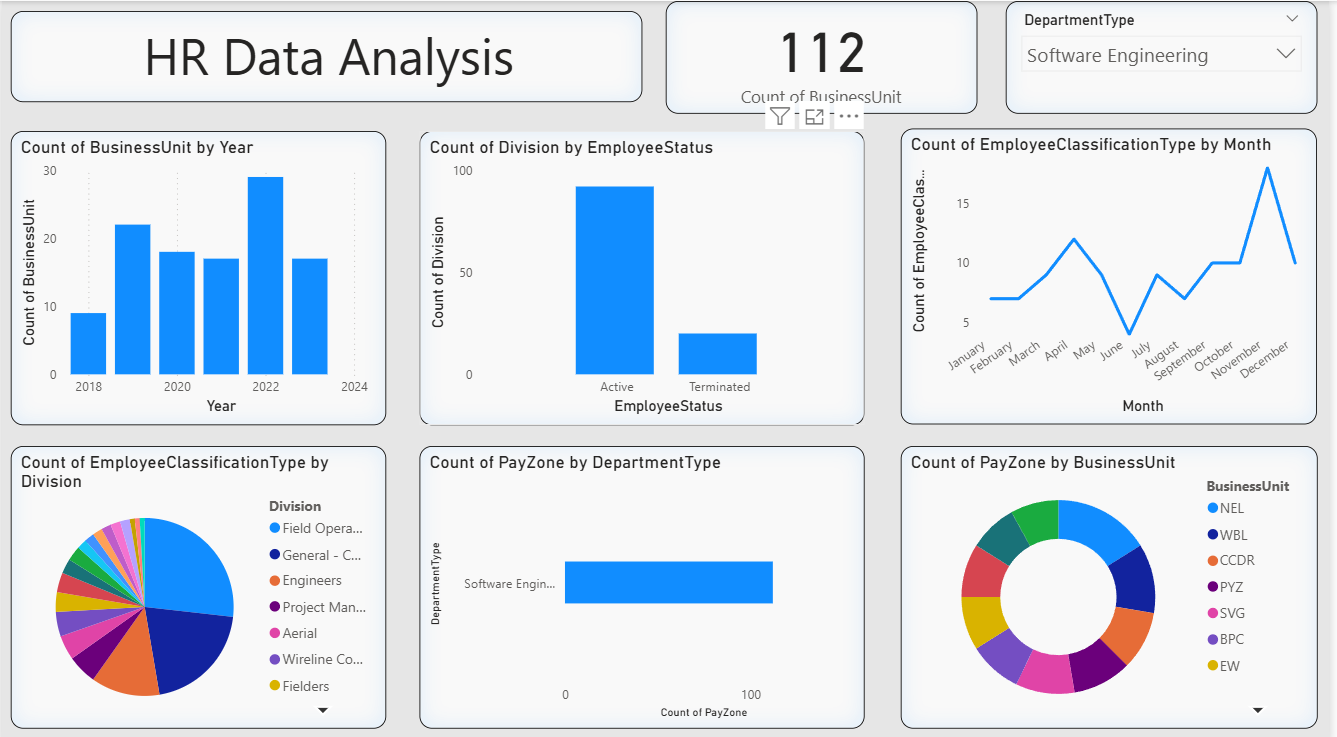

The page's visual inventory and layout, read from the dashboard file:
{"tool":"powerbi","page":{"name":"Page 1","canvas":[1280,720],"ordinal":0},"visuals":[{"type":"clusteredColumnChart","fields":{"Category":["HR_Data_Analysis.StartDate.Variation.Date Hierarchy.Year"],"Y":["CountNonNull(HR_Data_Analysis.BusinessUnit)"]},"box":[8.2,124.9,362.3,284],"z":0},{"type":"slicer","fields":{"Values":["HR_Data_Analysis.DepartmentType"]},"box":[968.8,0,300.5,108.4],"z":1000},{"type":"lineChart","fields":{"Category":["HR_Data_Analysis.StartDate.Variation.Date Hierarchy.Month"],"Y":["CountNonNull(HR_Data_Analysis.EmployeeClassificationType)"]},"box":[867.4,123.1,401.7,285.9],"z":2000},{"type":"pieChart","fields":{"Category":["HR_Data_Analysis.Division"],"Y":["CountNonNull(HR_Data_Analysis.EmployeeClassificationType)"]},"box":[8.2,429.5,362.3,273.1],"z":3000},{"type":"card","fields":{"Values":["CountNonNull(HR_Data_Analysis.BusinessUnit)"]},"box":[640.8,0,300.5,108.4],"z":4000},{"type":"clusteredBarChart","fields":{"Y":["CountNonNull(HR_Data_Analysis.PayZone)"],"Category":["HR_Data_Analysis.DepartmentType"]},"box":[403.4,429.5,429.5,273.1],"z":5000},{"type":"clusteredColumnChart","fields":{"Category":["HR_Data_Analysis.EmployeeStatus"],"Y":["CountNonNull(HR_Data_Analysis.Division)"]},"box":[403.4,124.9,429.5,284],"z":6000},{"type":"donutChart","fields":{"Category":["HR_Data_Analysis.BusinessUnit"],"Y":["CountNonNull(HR_Data_Analysis.PayZone)"]},"box":[867.2,429.5,402.1,273.1],"z":7000},{"type":"textbox","box":[8.2,9.6,609.3,87.8],"z":8000}]}

Visuals, with their boxes in screenshot pixels (x1, y1, x2, y2), scaled from the page's 1280x720 canvas onto the 1337x737 screenshot:
clusteredColumnChart - HR_Data_Analysis.StartDate.Variation.Date Hierarchy.Year x CountNonNull(HR_Data_Analysis.BusinessUnit): pyautogui.locateOnScreen(9, 128, 387, 419)
slicer - HR_Data_Analysis.DepartmentType: pyautogui.locateOnScreen(1012, 0, 1326, 111)
lineChart - HR_Data_Analysis.StartDate.Variation.Date Hierarchy.Month x CountNonNull(HR_Data_Analysis.EmployeeClassificationType): pyautogui.locateOnScreen(906, 126, 1326, 419)
pieChart - HR_Data_Analysis.Division x CountNonNull(HR_Data_Analysis.EmployeeClassificationType): pyautogui.locateOnScreen(9, 440, 387, 719)
card - CountNonNull(HR_Data_Analysis.BusinessUnit): pyautogui.locateOnScreen(669, 0, 983, 111)
clusteredBarChart - CountNonNull(HR_Data_Analysis.PayZone) x HR_Data_Analysis.DepartmentType: pyautogui.locateOnScreen(421, 440, 870, 719)
clusteredColumnChart - HR_Data_Analysis.EmployeeStatus x CountNonNull(HR_Data_Analysis.Division): pyautogui.locateOnScreen(421, 128, 870, 419)
donutChart - HR_Data_Analysis.BusinessUnit x CountNonNull(HR_Data_Analysis.PayZone): pyautogui.locateOnScreen(906, 440, 1326, 719)
textbox: pyautogui.locateOnScreen(9, 10, 645, 100)
